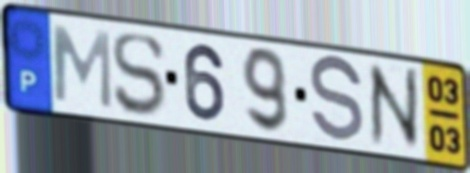6: (182, 41, 229, 126)
9: (238, 46, 292, 137)
M: (50, 22, 115, 113)
N: (364, 61, 425, 151)
S: (307, 53, 367, 148), (109, 31, 168, 119)
